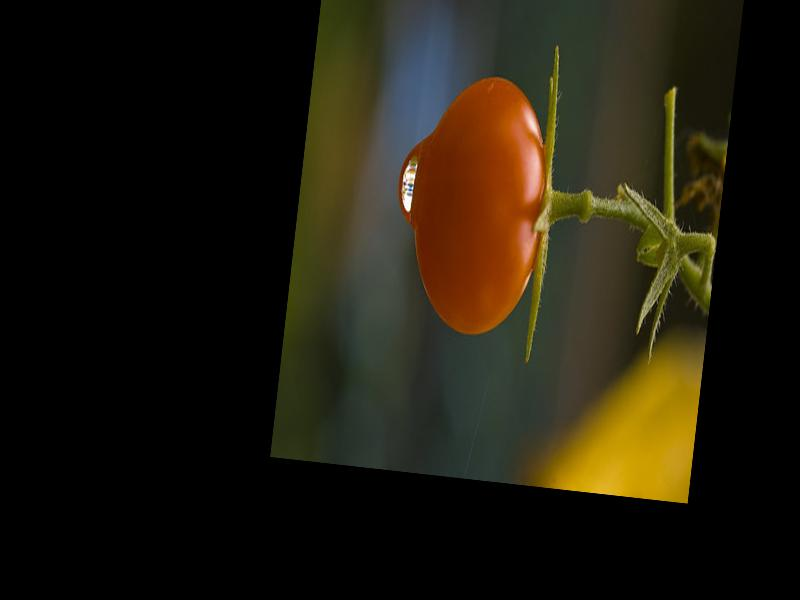Tomato: (403, 67, 558, 339)
